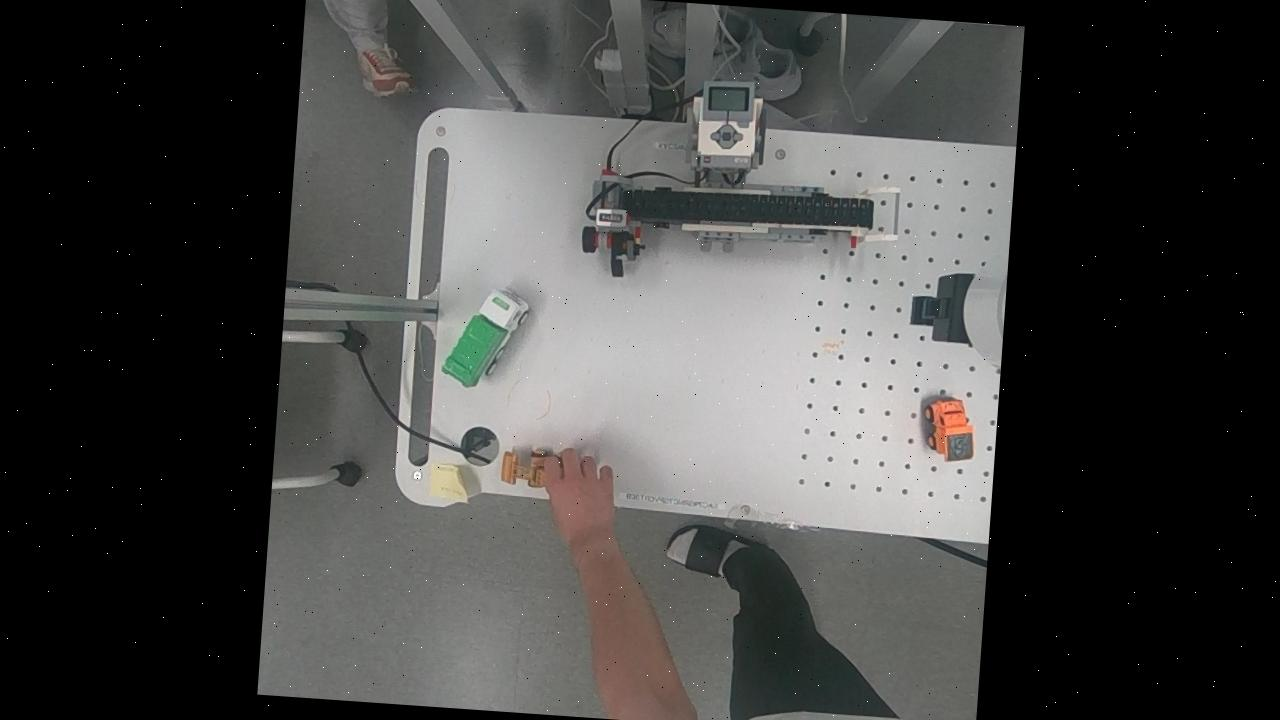green_car: (436, 278, 536, 394)
orange_car: (918, 390, 984, 467)
yellow_car: (494, 437, 565, 491)
